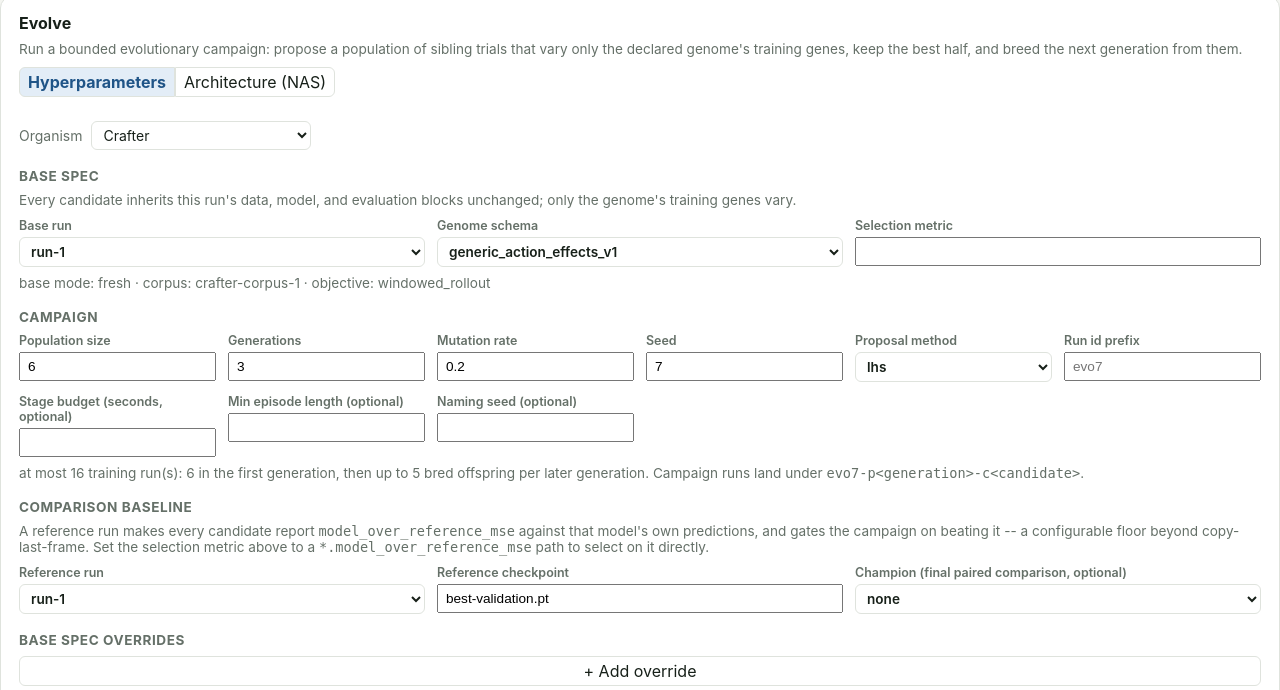
Test case: EvolvePanel › architecture (NAS) mode › stops quoting a dry run's estimate once the form no longer describes it
Expected: the dropdown labelled "Base run" shows "run-1", [19,237,425,267]
Click the button "Architecture (NAS)" at (255, 82), box [175,67,335,97]
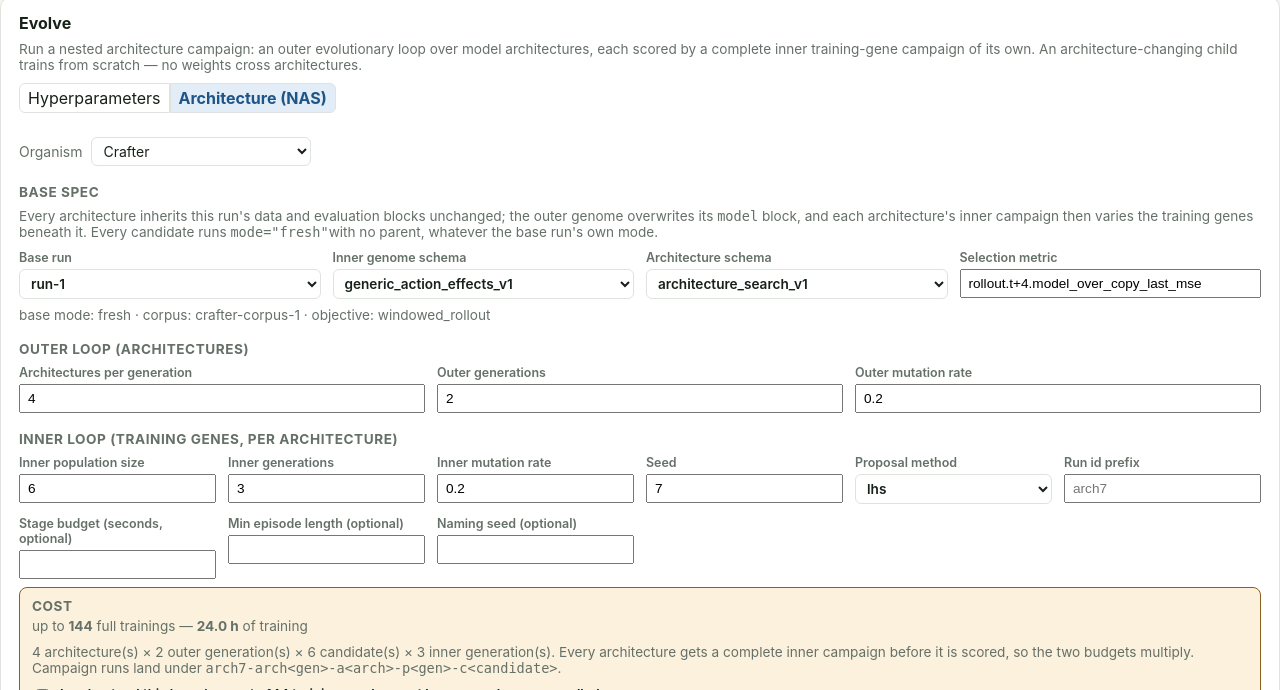
Expected: the dropdown labelled "Architecture schema" is shown, [646,269,948,299]
Replace the text in the number field labelled "Architectures per generation" with "2" at (222, 398), box [19,384,425,413]
(page scrolled)
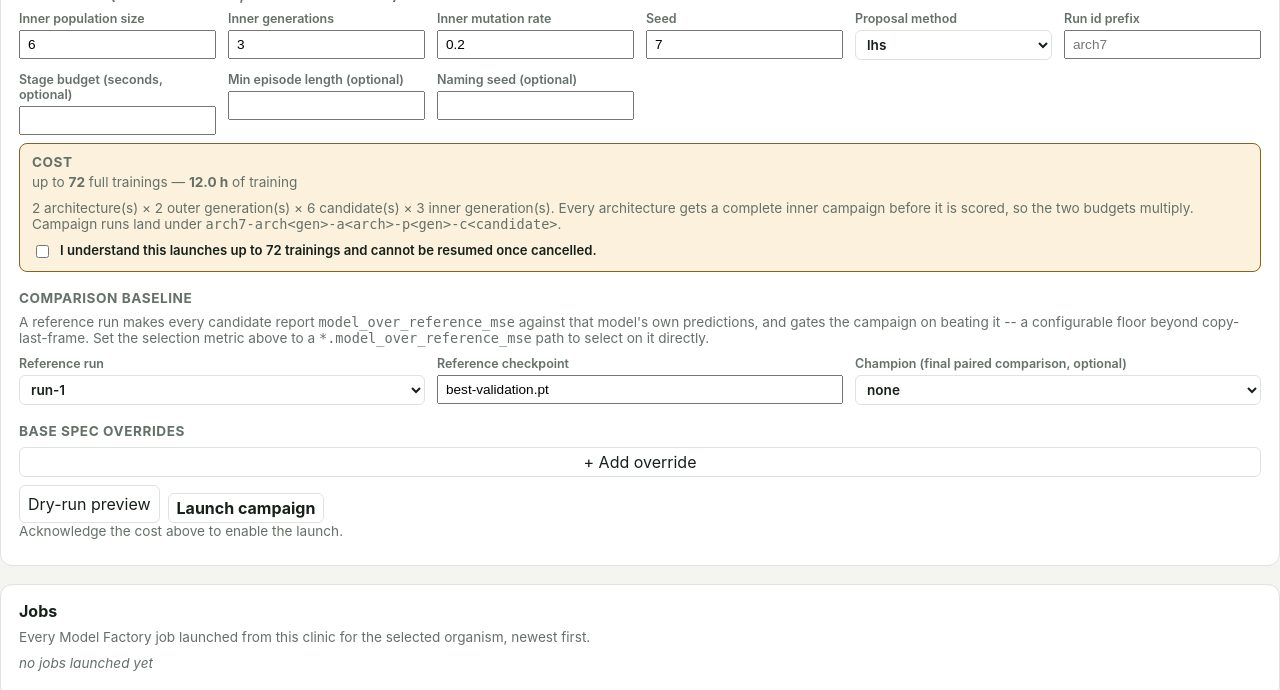
Click the button "Dry-run preview" at (89, 504), box [19,485,160,523]
(page scrolled)
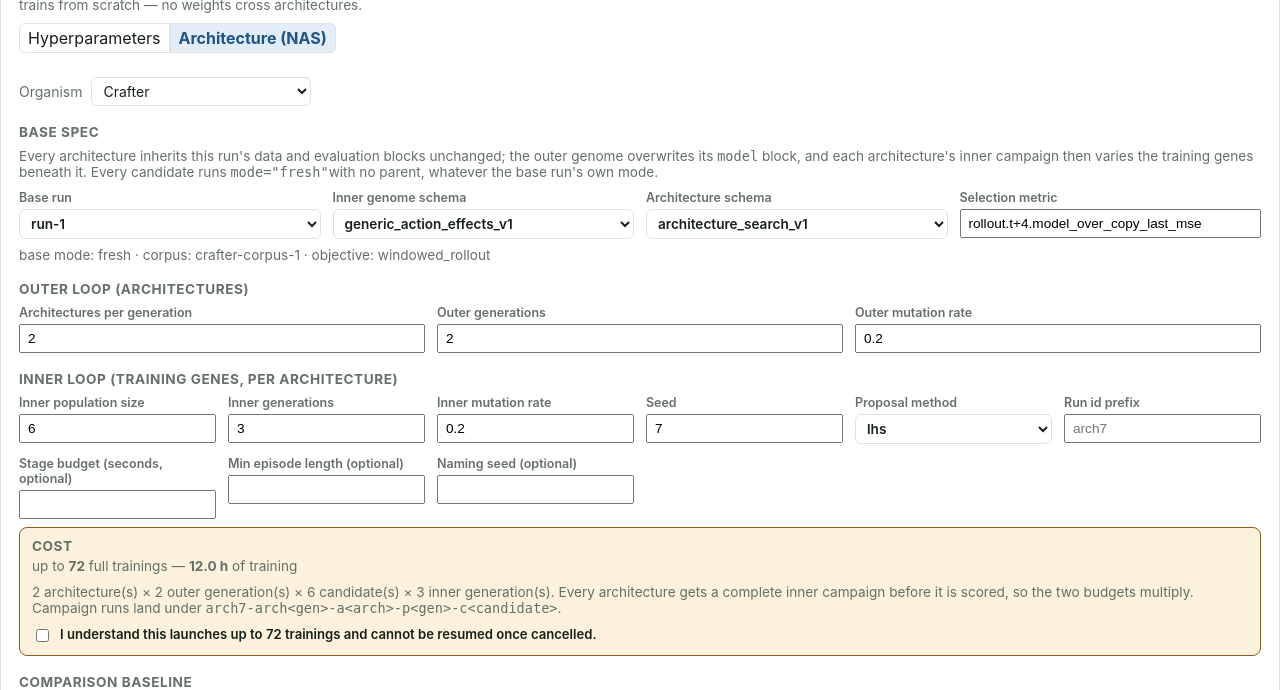
Expected: the element with test id "cost-estimate" shows "up to 72 full trainings", [19,527,1261,656]
Replace the text in the number field labelled "Architectures per generation" with "20" at (222, 338), box [19,324,425,353]
(page scrolled)
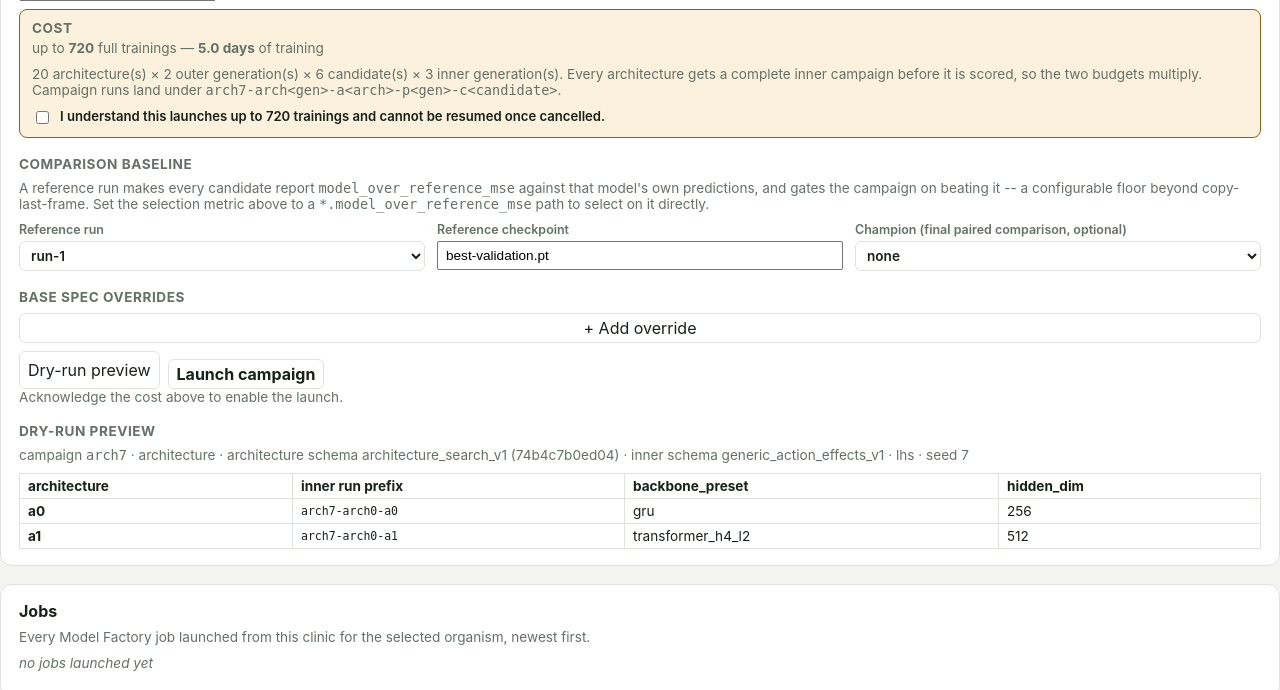
Expected: the checkbox named "Acknowledge campaign cost" is not checked, [36,111,49,124]
Expected: the element with test id "cost-estimate" no longer shows "up to 72 full trainings"
Expected: the element with test id "cost-estimate" shows "up to 720 full trainings", [19,9,1261,138]
